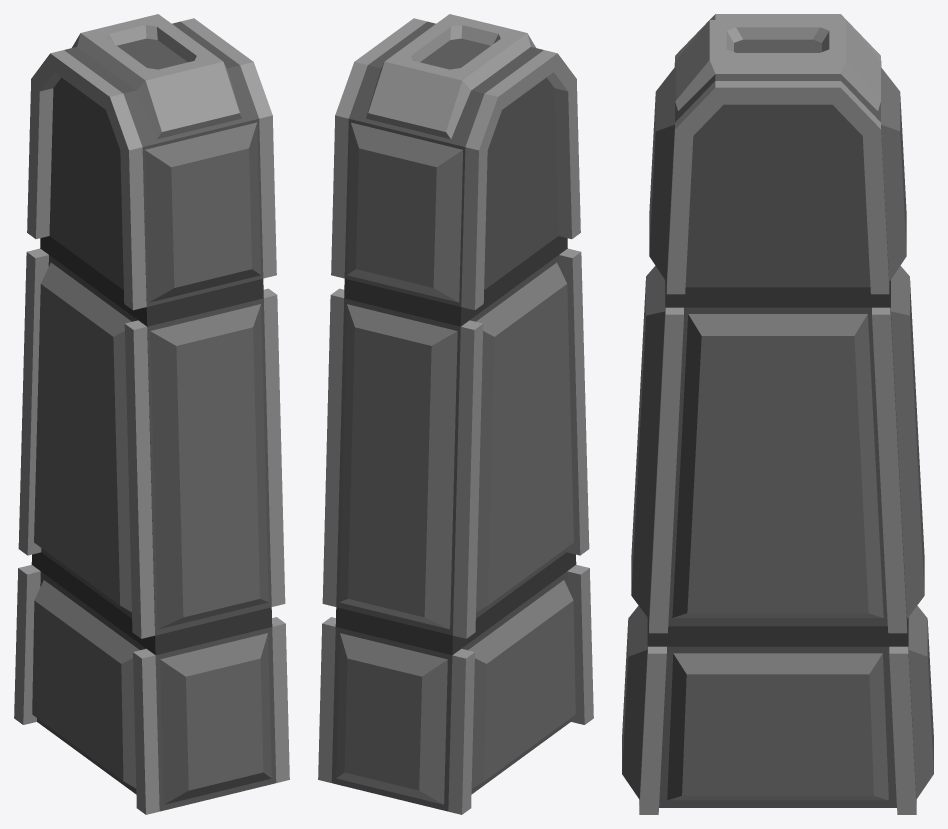
File: pipe_009.fbx
The picture shows the model from 3 angles, left to right: view 1: azimuth 30°, elevation 25°; view 2: azimuth 150°, elevation 25°; view 3: azimuth 270°, elevation 25°; orthographic projection. The views are drawn at different scales.
Parts seen in each view (by area): view 1: pipe_009; view 2: pipe_009; view 3: pipe_009.
Boxes of the visible parts, bbox=[...] form: pipe_009: bbox=[14, 14, 289, 814]; pipe_009: bbox=[318, 14, 593, 814]; pipe_009: bbox=[622, 14, 933, 814].
Size of the model in its own units: 223 by 383 by 1000.
